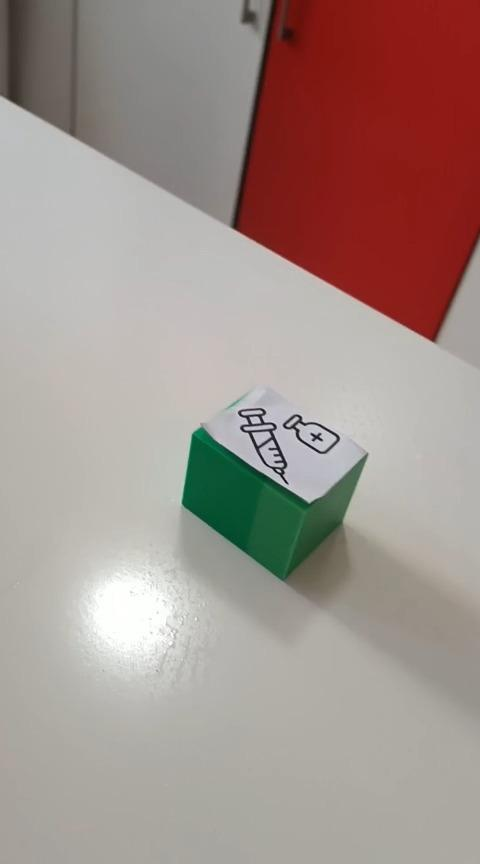antiseptic cream: (180, 383, 369, 581)
